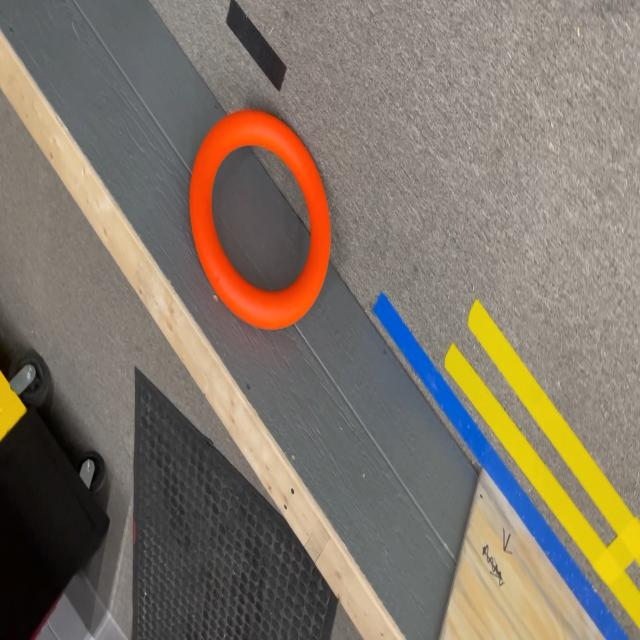note: (190, 110, 330, 328)
